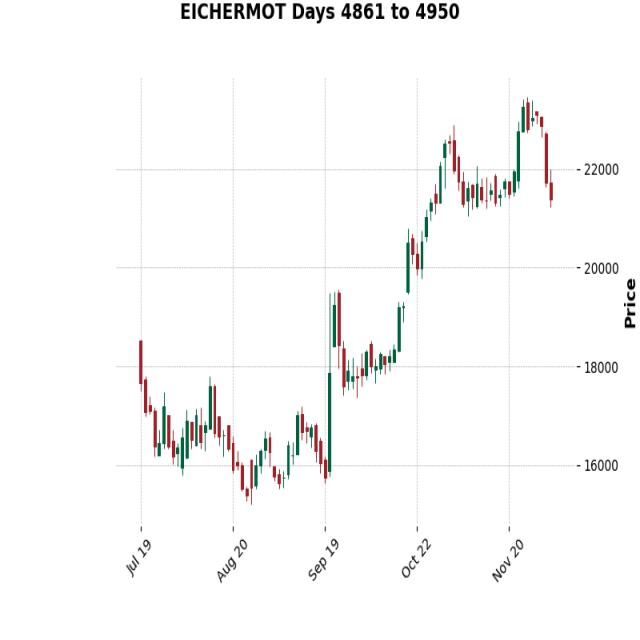Triple Bottom Reversal: (145, 370, 358, 522)
